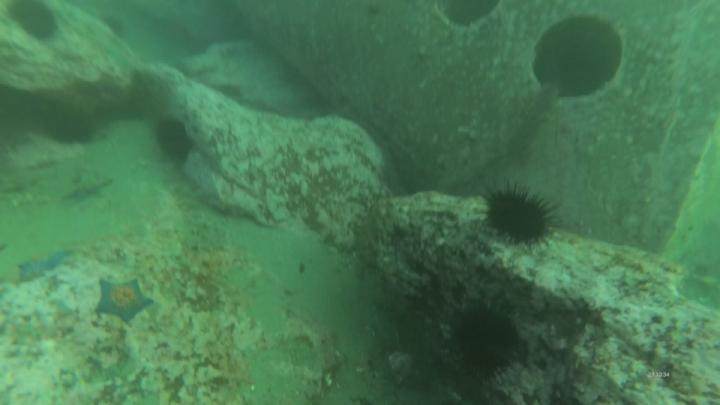echinus: (447, 291, 532, 391), (475, 177, 565, 255), (9, 1, 66, 43), (156, 113, 194, 167)
starfish: (96, 274, 157, 329), (56, 173, 116, 208), (34, 245, 72, 271), (18, 255, 50, 283)
